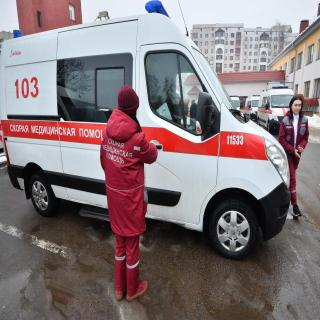Ambulance: (4, 2, 294, 266)
